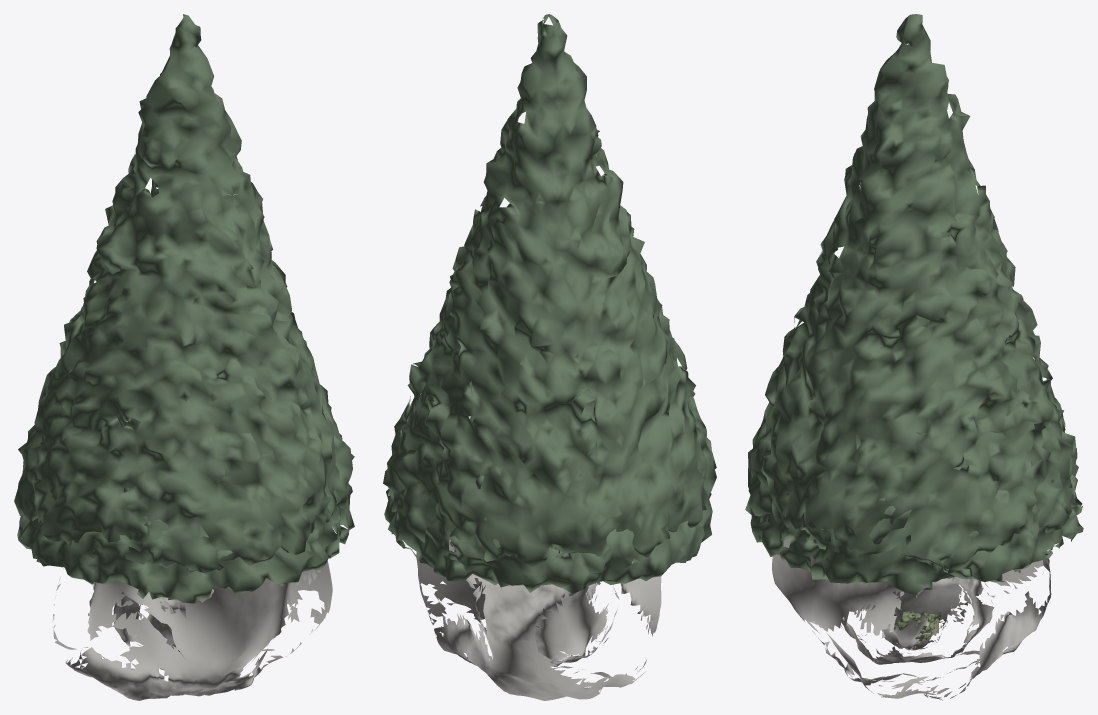
The model's file is Nature.glb.
3 views of the same model, side by side, from view 1: azimuth 30°, elevation 25°; view 2: azimuth 150°, elevation 25°; view 3: azimuth 270°, elevation 25° (orthographic).
Visible parts, largest first — view 1: Pine_2_Needles, Boulder_1_Stone, Pine_1_Needles, Rock_2_Stone; view 2: Pine_2_Needles, Boulder_1_Stone, Pine_1_Needles, Rock_2_Stone; view 3: Pine_2_Needles, Pine_1_Needles, Boulder_1_Stone, Rock_2_Stone, Rock_1_Stone.
Part boxes in pixels (x1,y1,x2,y2): Pine_2_Needles: (14, 14, 354, 573); Boulder_1_Stone: (52, 560, 332, 700); Pine_1_Needles: (17, 179, 354, 603); Rock_2_Stone: (113, 589, 213, 670); Pine_2_Needles: (383, 14, 716, 566); Boulder_1_Stone: (416, 540, 661, 700); Pine_1_Needles: (384, 203, 712, 593); Rock_2_Stone: (474, 578, 619, 666); Pine_2_Needles: (748, 14, 1078, 572); Pine_1_Needles: (745, 231, 1083, 594); Boulder_1_Stone: (772, 538, 1051, 700); Rock_2_Stone: (841, 577, 994, 664); Rock_1_Stone: (882, 592, 947, 650).
Bounding box in the file's own units: 16.44 × 35.29 × 16.53.
